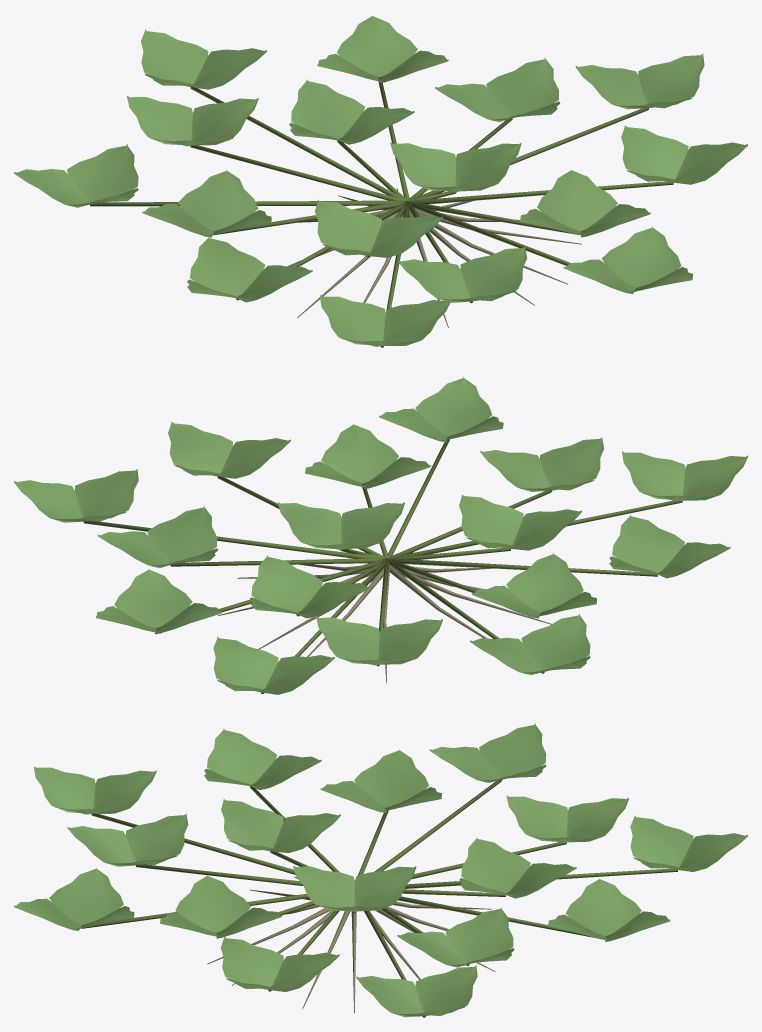
File: montecarlo-mobile.glb
The picture shows the model from 3 angles, top to bottom: view 1: azimuth 30°, elevation 25°; view 2: azimuth 150°, elevation 25°; view 3: azimuth 270°, elevation 25°; orthographic projection. The views are drawn at different scales.
Parts seen in each view (by area): view 1: round-carpet-leaf, creeping-stolon, anchoring-root; view 2: round-carpet-leaf, creeping-stolon, anchoring-root; view 3: round-carpet-leaf, creeping-stolon, anchoring-root.
Part boxes in pixels (x1=…): round-carpet-leaf: x1=14, y1=16, x2=747, y2=346; creeping-stolon: x1=90, y1=77, x2=673, y2=347; anchoring-root: x1=287, y1=188, x2=581, y2=327; round-carpet-leaf: x1=14, y1=376, x2=747, y2=694; creeping-stolon: x1=83, y1=437, x2=682, y2=693; anchoring-root: x1=218, y1=552, x2=551, y2=683; round-carpet-leaf: x1=14, y1=723, x2=747, y2=1017; creeping-stolon: x1=81, y1=779, x2=677, y2=1017; anchoring-root: x1=207, y1=876, x2=495, y2=1013.
Bounding box in the file's own units: 0.5343 × 0.0718 × 0.5687.
